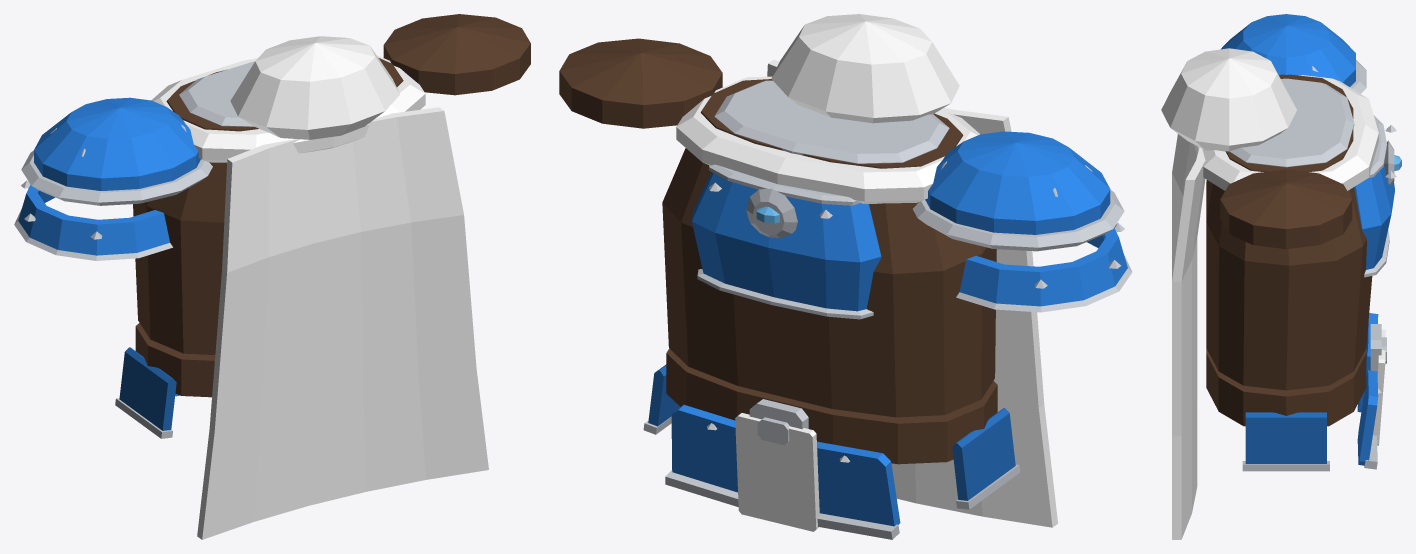
File: look3_armor_bow_rare.fbx
3 views of the same model, side by side, from view 1: azimuth 30°, elevation 25°; view 2: azimuth 150°, elevation 25°; view 3: azimuth 270°, elevation 25° (orthographic). The views are drawn at different scales.
Parts seen in each view (by area): view 1: Main, Tasset; view 2: Main, Tasset; view 3: Main, Tasset.
Part boxes in pixels (x1,y1,x2,y2): Main: [14, 14, 530, 539]; Tasset: [115, 347, 179, 438]; Main: [559, 14, 1132, 527]; Tasset: [643, 364, 1020, 539]; Main: [1161, 14, 1401, 539]; Tasset: [1242, 313, 1385, 471].
Size of the model in its own units: 398 by 337 by 177.
